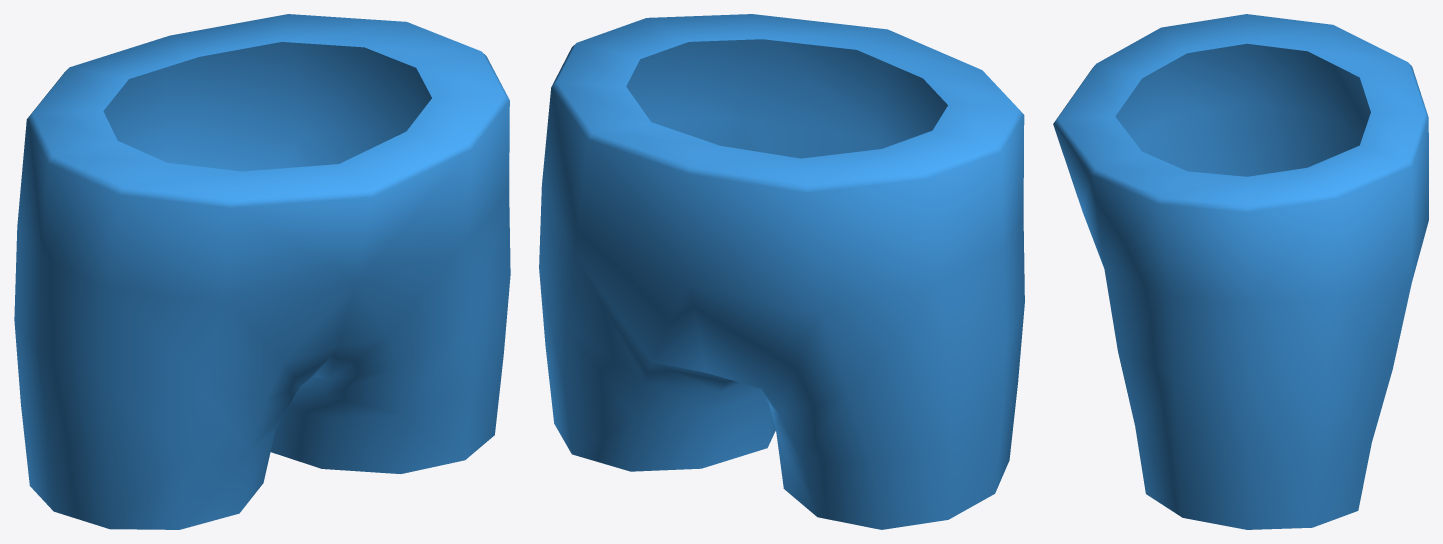
File: Pants_Blue_004.glb
3 renders of one model, left to right at view 1: azimuth 30°, elevation 25°; view 2: azimuth 150°, elevation 25°; view 3: azimuth 270°, elevation 25°, orthographic. The views are drawn at different scales.
Parts seen in each view (by area): view 1: Pants_Blue_004; view 2: Pants_Blue_004; view 3: Pants_Blue_004.
Boxes of the visible parts, <box> form: Pants_Blue_004: <box>14,14,510,529</box>; Pants_Blue_004: <box>539,14,1024,529</box>; Pants_Blue_004: <box>1053,14,1428,529</box>.
Size of the model in its own units: 0.4529 by 0.3473 by 0.3561.
Materials: 1 (1 with a texture image).
